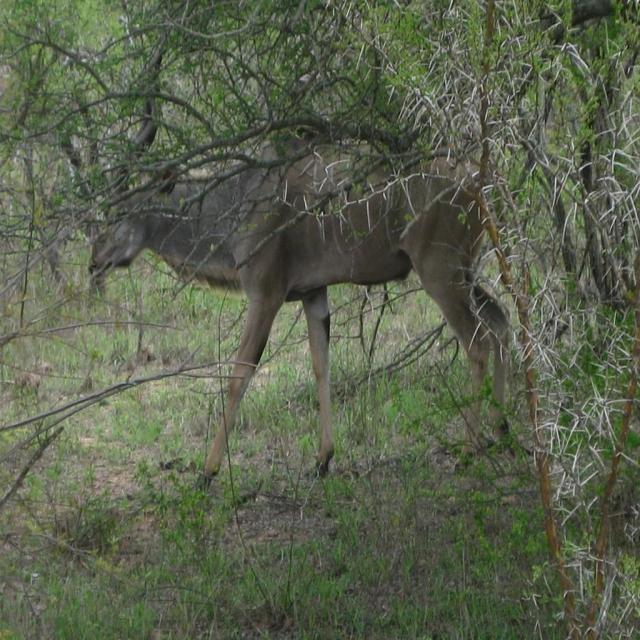Deer: (89, 37, 511, 490)
